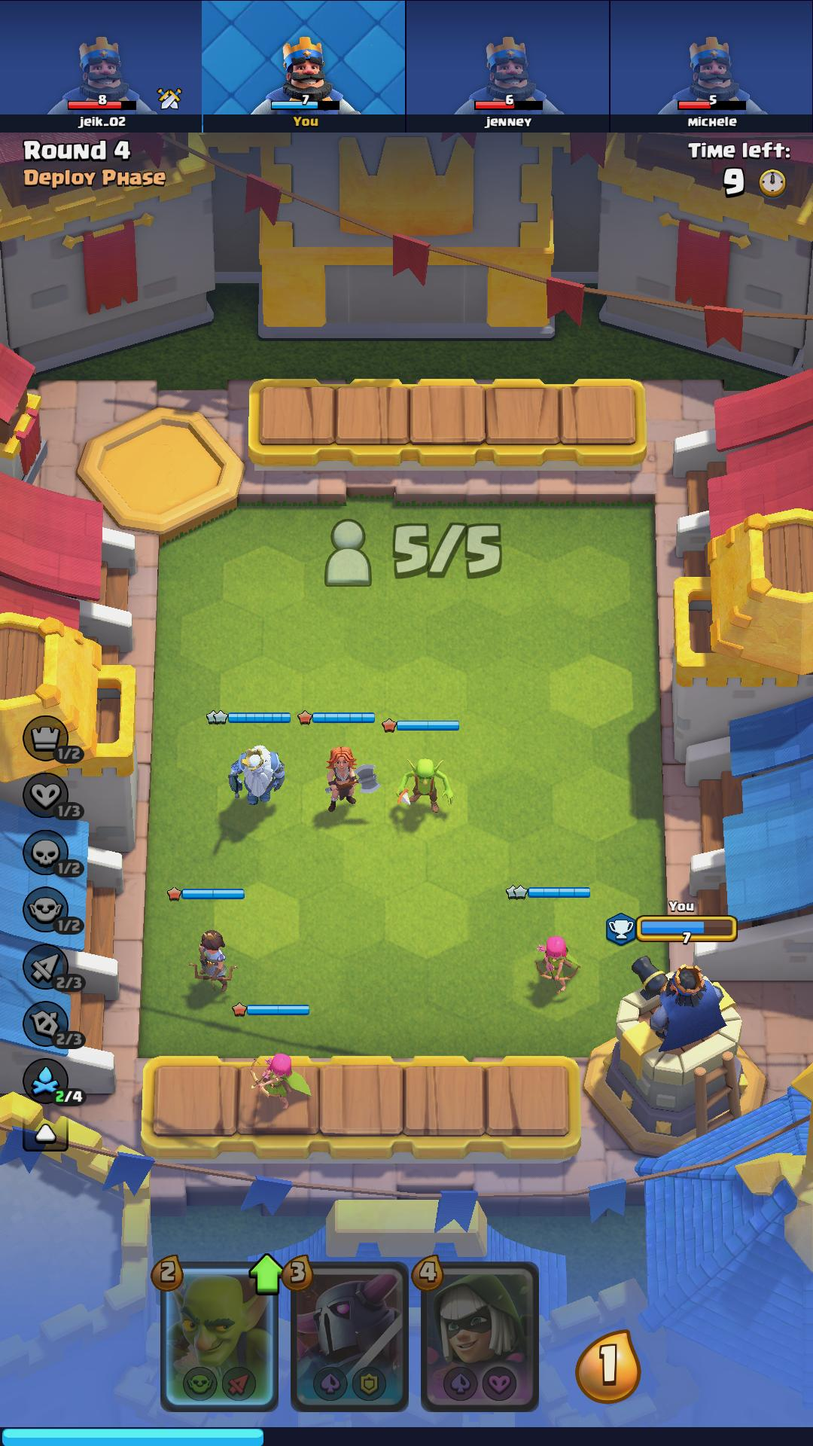archer: (238, 1037, 314, 1110), (513, 929, 591, 997)
ghost: (216, 741, 289, 806)
goblin: (386, 748, 455, 817)
hand-bandit: (425, 1265, 537, 1406)
hand-goblin: (163, 1264, 276, 1408)
hand-pekka: (295, 1265, 408, 1406)
princess: (177, 910, 250, 994)
upgrade: (250, 1248, 285, 1297)
valkyrie: (316, 737, 378, 820)
